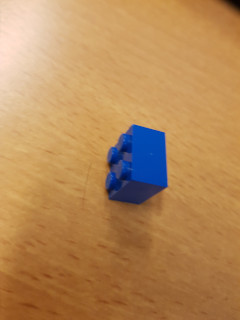2x2 blue: (104, 123, 170, 208)
